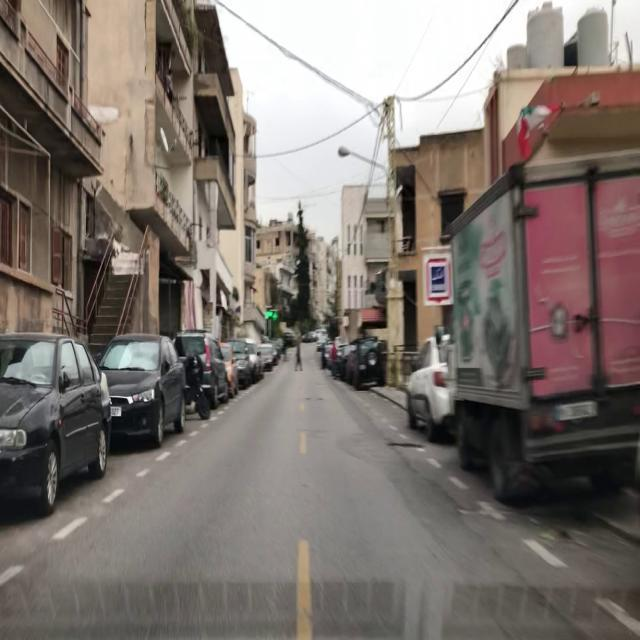Buraco: (386, 441, 426, 449)
